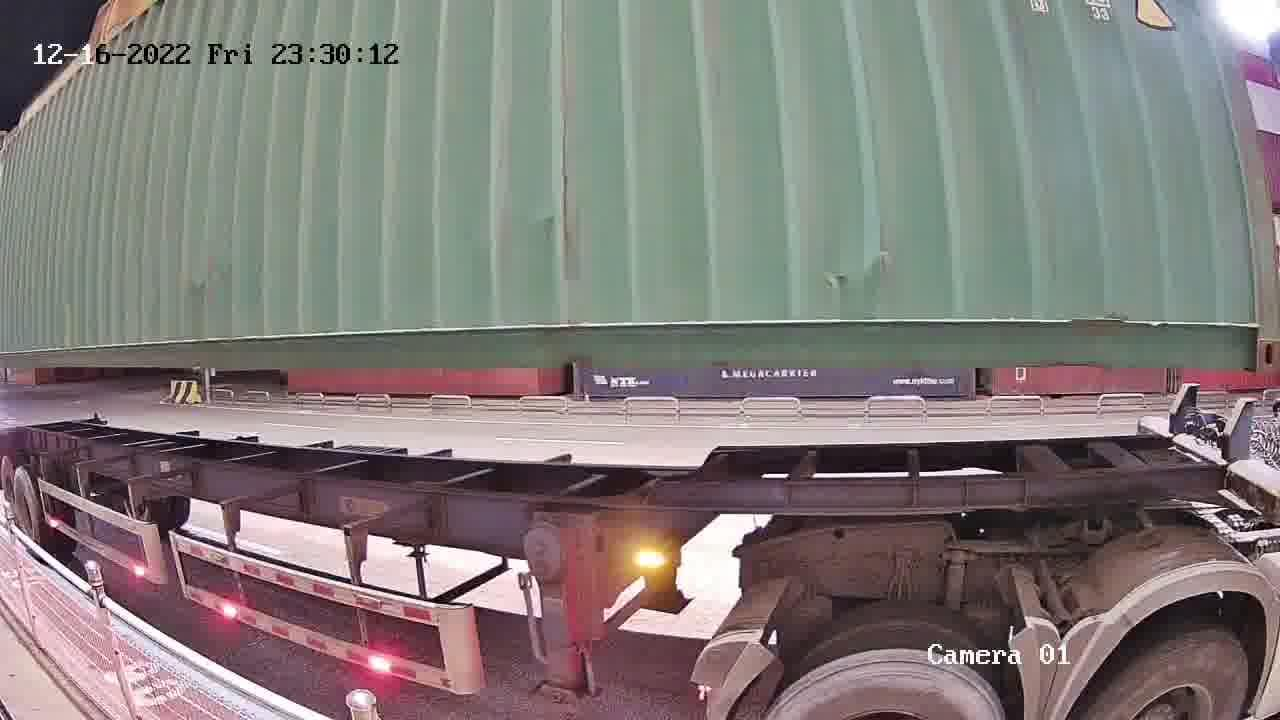Hole_R: (1210, 281, 1279, 376)
Tire: (762, 624, 1023, 712), (1082, 636, 1253, 714)
